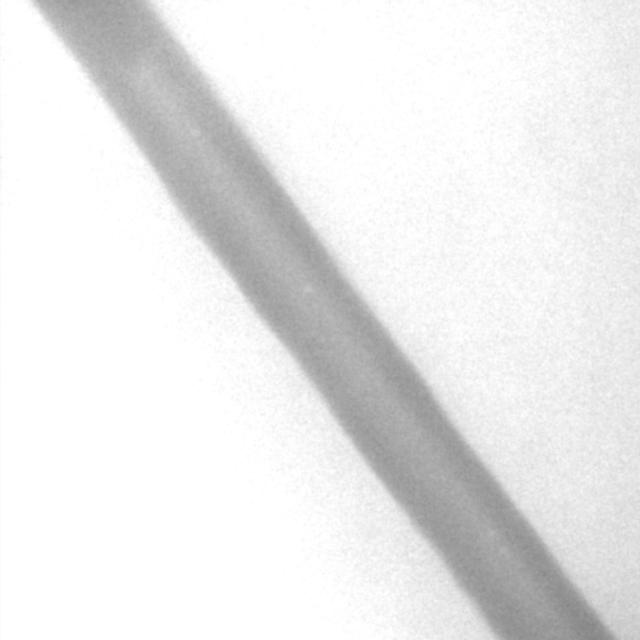air-hole: (537, 608, 544, 618)
